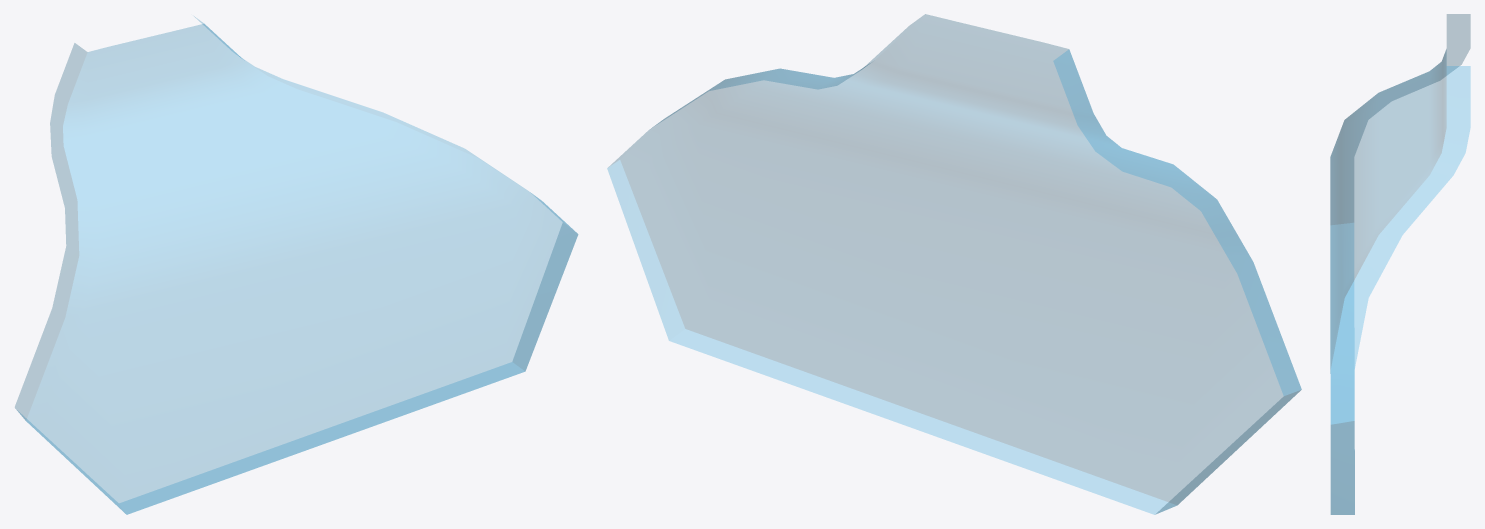
The model's file is p_hvs_minidungeon_rewardlocker_shatterglass_part09.fbx.
3 views of the same model, side by side, from view 1: azimuth 30°, elevation 25°; view 2: azimuth 150°, elevation 25°; view 3: azimuth 270°, elevation 25° (orthographic). The views are drawn at different scales.
Parts seen in each view (by area): view 1: 9_shatterglass; view 2: 9_shatterglass; view 3: 9_shatterglass.
Part boxes in pixels (x1=…): 9_shatterglass: x1=15, y1=16, x2=578, y2=514; 9_shatterglass: x1=607, y1=14, x2=1301, y2=514; 9_shatterglass: x1=1330, y1=14, x2=1470, y2=514.
Bounding box in the file's own units: 2.44 × 1.73 × 0.585.
